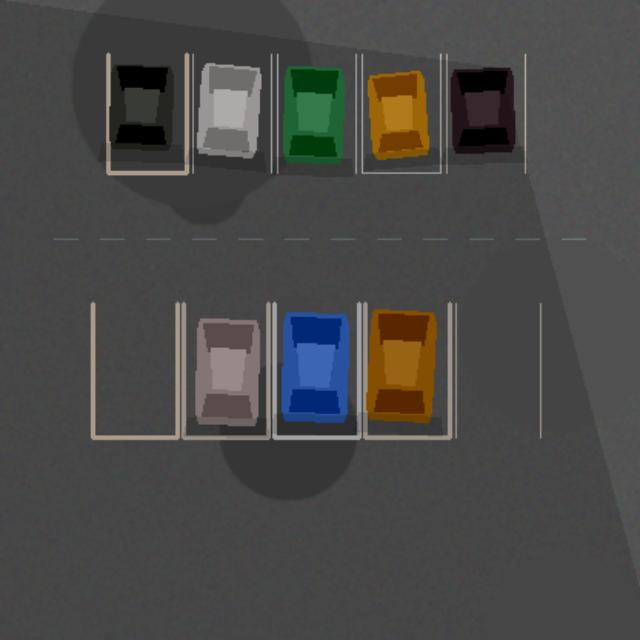space-empty: (92, 303, 177, 437), (455, 303, 540, 437)
space-occupied: (183, 303, 268, 437), (274, 303, 358, 437), (365, 303, 449, 437), (192, 54, 271, 172), (446, 54, 525, 172), (108, 54, 186, 172), (277, 54, 355, 172), (362, 54, 440, 172)
